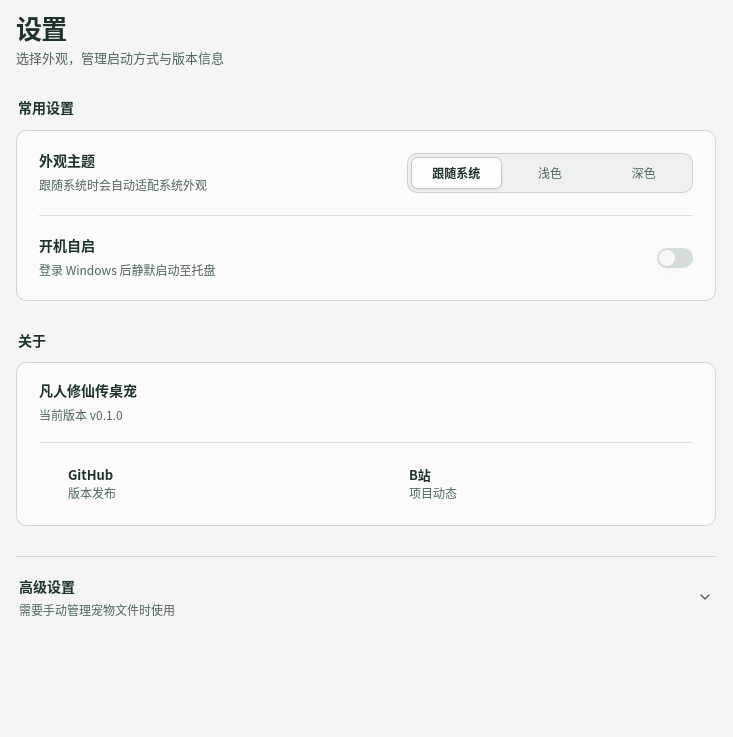
Scenario: GeneralSettingsPage › keeps advanced actions hidden again after collapsing the section
Click the button "高级设置 需要手动管理宠物文件时使用": (47, 586) [16, 557, 716, 638]
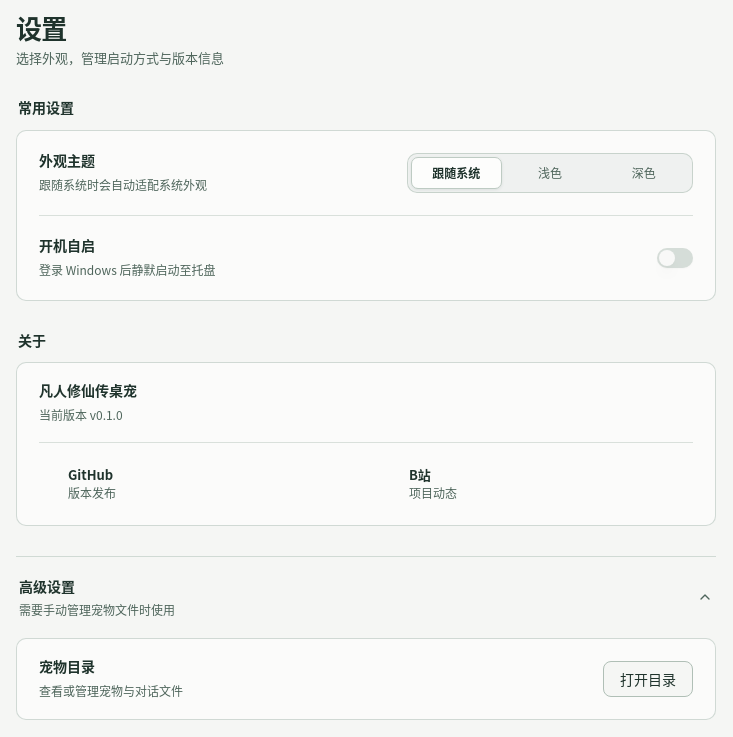
Expected: the button "高级设置 需要手动管理宠物文件时使用" is expanded
Expected: the button with aria-label "打开宠物目录" is shown, [603, 661, 693, 697]
Click the button "高级设置 需要手动管理宠物文件时使用": (47, 586) [16, 557, 716, 638]
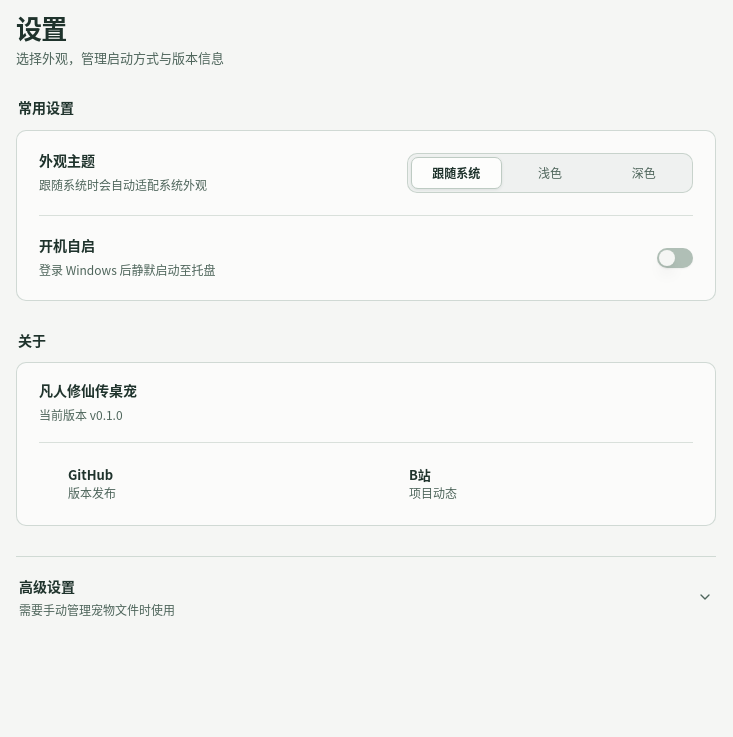
Expected: the button "高级设置 需要手动管理宠物文件时使用" is collapsed, [16, 557, 716, 638]
Expected: the button "打开宠物目录" is gone
